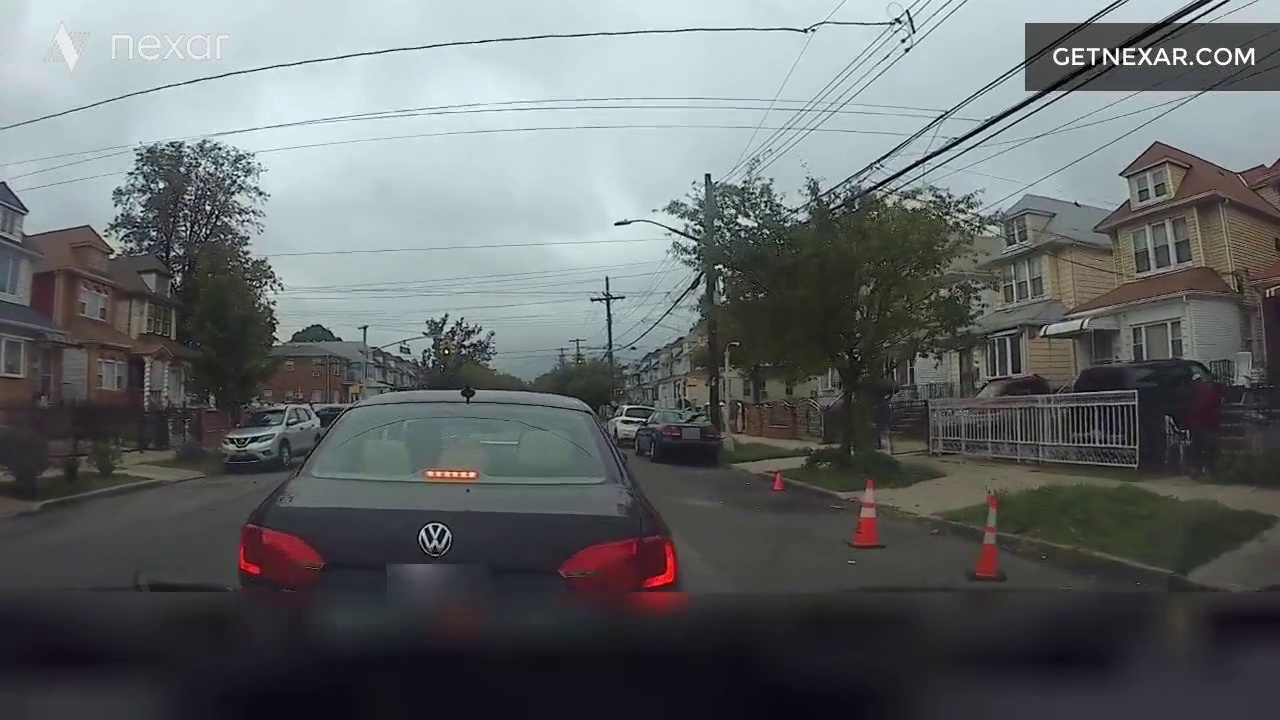car: (247, 352, 585, 612), (1026, 344, 1280, 496), (586, 367, 727, 479), (212, 385, 321, 475)
person: (1163, 367, 1239, 472)
